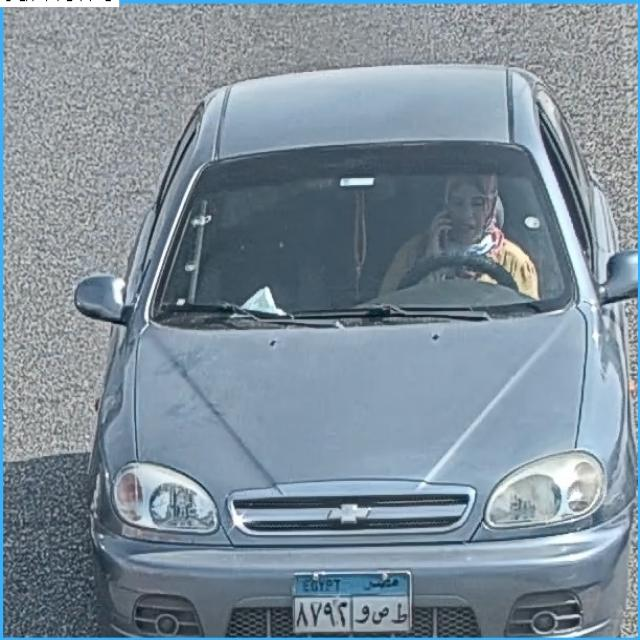windshield: (127, 146, 560, 314)
